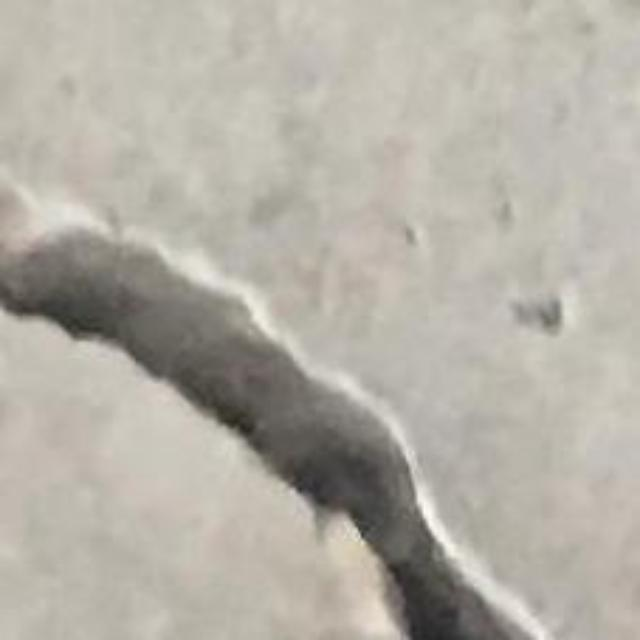crack: (0, 175, 549, 639)
